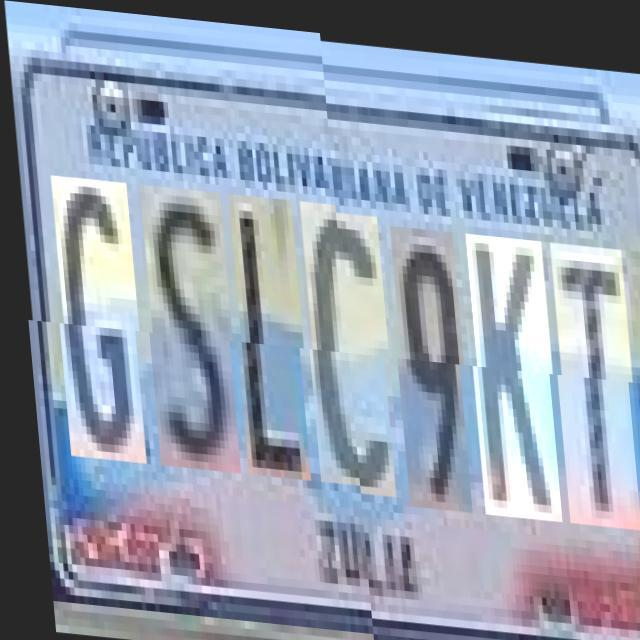9: (386, 218, 468, 504)
C: (297, 203, 392, 490)
G: (48, 182, 144, 470)
K: (462, 224, 557, 511)
L: (226, 197, 308, 483)
S: (137, 190, 237, 478)
T: (546, 231, 638, 518)
